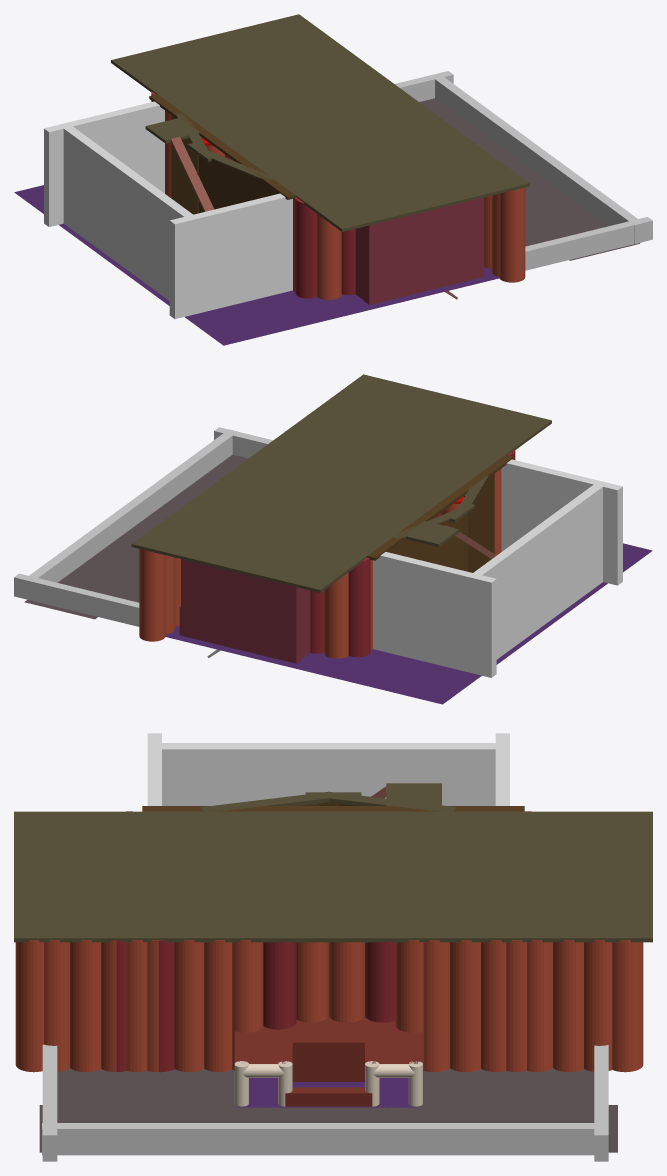
File: theaterbackup1.dae
3 renders of one model, top to bottom at view 1: azimuth 30°, elevation 25°; view 2: azimuth 150°, elevation 25°; view 3: azimuth 270°, elevation 25°, orthographic. The views are drawn at different scales.
Visible parts, largest first — view 1: roof_004, Cube_018, Cube_019, Cube_048, floor, Cube_017, Cube_057, floor_004, Cube_055, Cylinder_069, Cube_005, Cylinder_002 (+11 smaller); view 2: roof_004, Cube_017, Cube_019, Cube_039, floor, Cube_018, Cube_057, floor_004, Cube_056, Cylinder_074, Cylinder_005, Cylinder_007 (+9 smaller); view 3: roof_004, Cube_019, Cube_057, floor_004, floor_002, floor_003, Cylinder_067, Cylinder_074, Cylinder_071, Cylinder_080, Cylinder_076, Cylinder_070 (+35 smaller).
Boxes of the visible parts, x1=… form: roof_004: x1=111, y1=14, x2=529, y2=231; Cube_018: x1=169, y1=193, x2=292, y2=318; Cube_019: x1=61, y1=124, x2=194, y2=300; Cube_048: x1=364, y1=197, x2=484, y2=304; floor: x1=14, y1=185, x2=499, y2=345; Cube_017: x1=44, y1=101, x2=164, y2=226; Cube_057: x1=433, y1=75, x2=643, y2=244; floor_004: x1=419, y1=98, x2=639, y2=260; Cube_055: x1=525, y1=217, x2=652, y2=270; Cylinder_069: x1=499, y1=187, x2=525, y2=282; Cube_005: x1=204, y1=159, x2=278, y2=209; Cylinder_002: x1=295, y1=197, x2=317, y2=298; roof_004: x1=131, y1=374, x2=551, y2=592; Cube_017: x1=373, y1=552, x2=496, y2=677; Cube_019: x1=471, y1=484, x2=602, y2=659; Cube_039: x1=181, y1=559, x2=301, y2=663; floor: x1=165, y1=543, x2=652, y2=704; Cube_018: x1=501, y1=459, x2=622, y2=585; Cube_057: x1=29, y1=429, x2=237, y2=582; floor_004: x1=24, y1=454, x2=248, y2=619; Cube_056: x1=14, y1=573, x2=139, y2=626; Cylinder_074: x1=139, y1=549, x2=165, y2=641; Cylinder_005: x1=348, y1=557, x2=370, y2=657; Cylinder_007: x1=324, y1=572, x2=348, y2=658; roof_004: x1=14, y1=811, x2=652, y2=942; Cube_019: x1=155, y1=743, x2=502, y2=805; Cube_057: x1=42, y1=1123, x2=600, y2=1155; floor_004: x1=39, y1=1105, x2=617, y2=1152; floor_002: x1=57, y1=1068, x2=237, y2=1107; floor_003: x1=418, y1=1068, x2=594, y2=1107; Cylinder_067: x1=70, y1=940, x2=101, y2=1072; Cylinder_074: x1=612, y1=940, x2=643, y2=1072; Cylinder_071: x1=174, y1=940, x2=204, y2=1072; Cylinder_080: x1=450, y1=940, x2=480, y2=1072; Cylinder_076: x1=553, y1=940, x2=583, y2=1072; Cylinder_070: x1=204, y1=940, x2=232, y2=1072.
Size of the model in its own units: 97.01 by 88.16 by 24.86.
